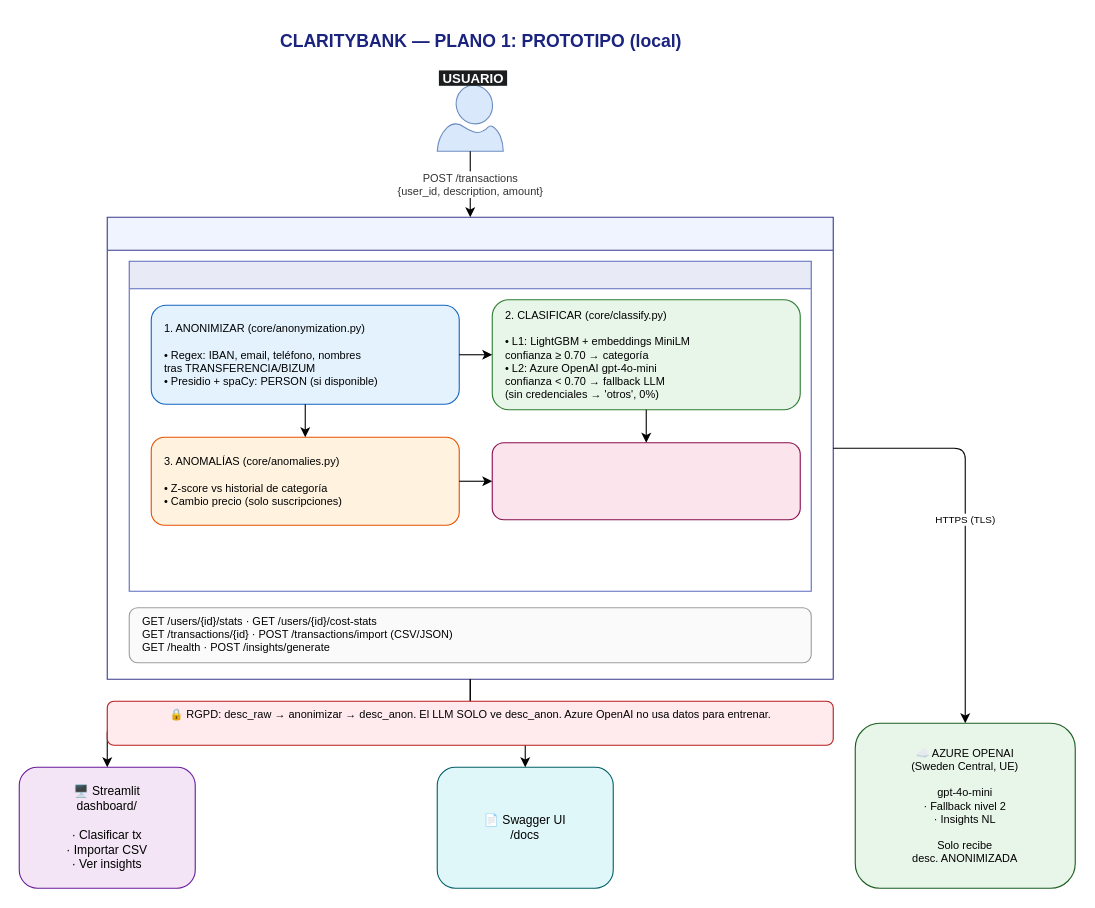
The diagram is 1095 pixels wide and 908 high, and some of its shapes have lost their labels. The box of each missing label's shape, as (x1, y1, x2, y2) in pixels:
4. GUARDAR → SQLite (data/clarity.db): (491, 442, 800, 520)
FastAPI (api/): (106, 216, 833, 679)
service.process_transaction: (128, 260, 811, 591)
